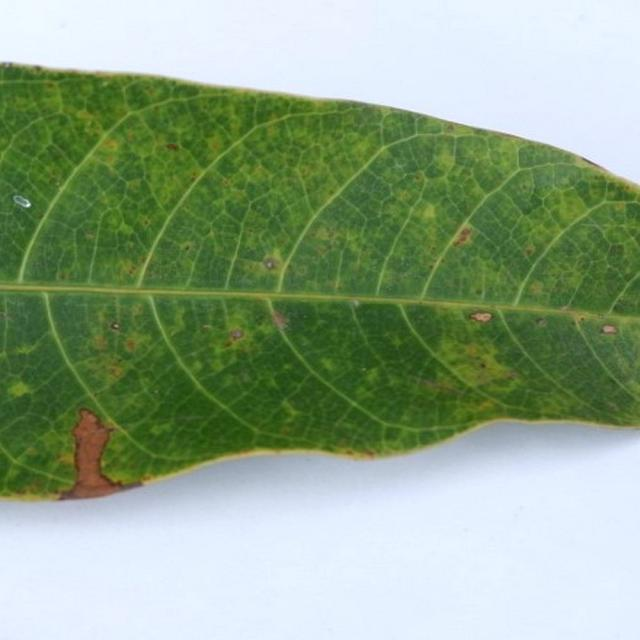Mango: (0, 65, 639, 494)
Powdery_Mildew: (234, 113, 346, 185), (561, 311, 634, 404), (0, 298, 66, 394), (222, 172, 291, 226), (601, 243, 640, 313), (456, 340, 515, 381), (197, 314, 262, 351), (523, 164, 580, 203), (82, 209, 112, 282), (545, 187, 592, 228), (453, 133, 499, 168), (508, 182, 552, 218), (412, 376, 468, 395), (259, 246, 287, 275), (310, 224, 343, 248), (410, 193, 437, 222), (119, 257, 144, 279), (7, 379, 33, 400), (278, 400, 303, 421), (14, 481, 50, 495), (318, 356, 341, 375), (452, 227, 473, 247), (361, 367, 382, 385), (271, 311, 290, 330), (580, 155, 604, 169), (15, 343, 38, 357), (468, 311, 494, 323), (526, 280, 545, 296), (101, 137, 121, 152), (108, 363, 125, 379), (93, 334, 109, 350), (13, 195, 31, 208), (91, 70, 124, 77), (56, 453, 75, 465), (608, 243, 625, 256), (599, 324, 618, 334), (124, 339, 137, 352), (612, 302, 627, 313), (404, 172, 419, 182), (14, 487, 32, 495), (0, 311, 13, 320), (524, 246, 535, 256), (535, 317, 547, 326), (166, 143, 179, 151), (363, 450, 376, 458), (182, 242, 193, 251), (444, 123, 455, 131), (110, 322, 121, 330), (560, 305, 572, 312), (142, 474, 152, 482), (574, 318, 584, 326), (394, 162, 405, 169), (469, 313, 478, 321), (59, 272, 67, 280), (352, 299, 360, 307), (34, 65, 42, 72), (597, 313, 606, 319), (202, 324, 212, 329), (479, 362, 486, 369), (266, 261, 273, 268), (578, 316, 586, 322), (361, 367, 367, 372), (153, 389, 159, 394)
